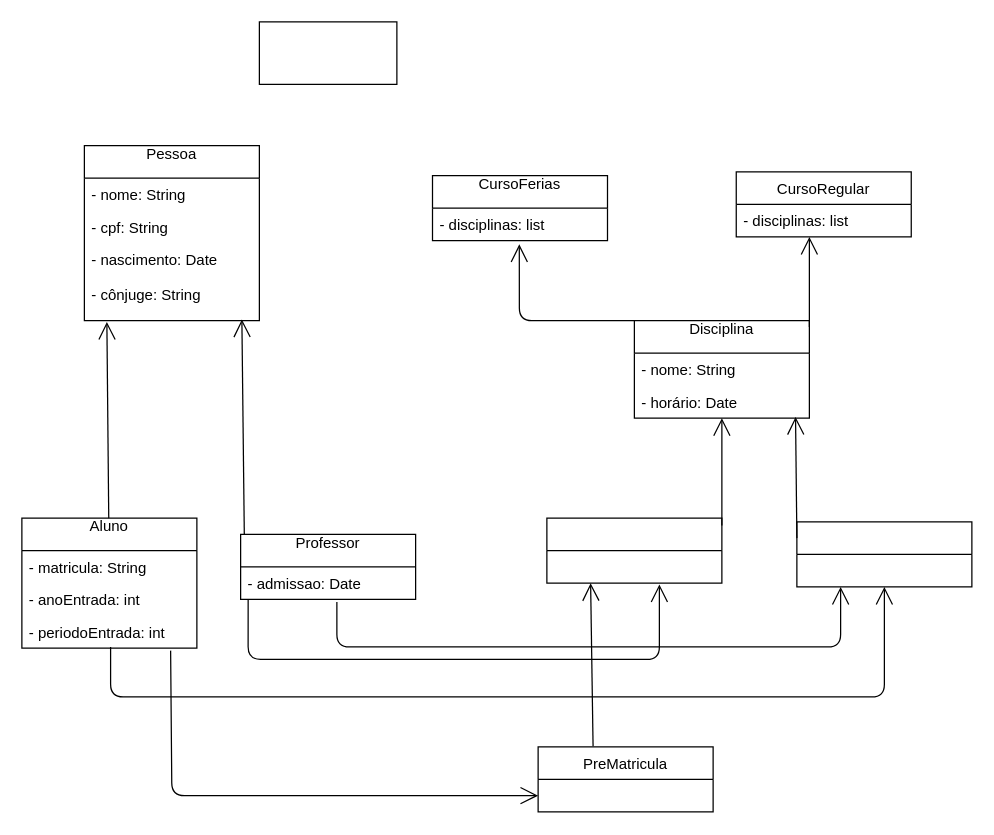
This 994x835 diagram has some shape labels left out. The centre of each missing label's shape, as x and y in pixels:
"DisciplinaFerias" goes at [634,550].
"DisciplinaRegular" goes at [884,554].
"«interface» Sistema" goes at [327,52].
